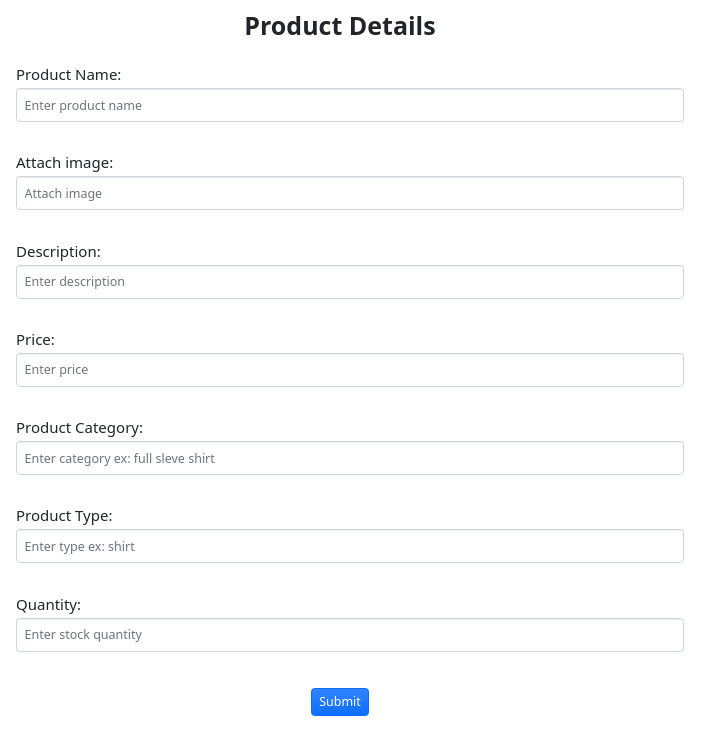
Test case: Add Product › description verification
Type "Nice one!" into the field with test id "description" at [350, 282], box [16, 264, 684, 298]
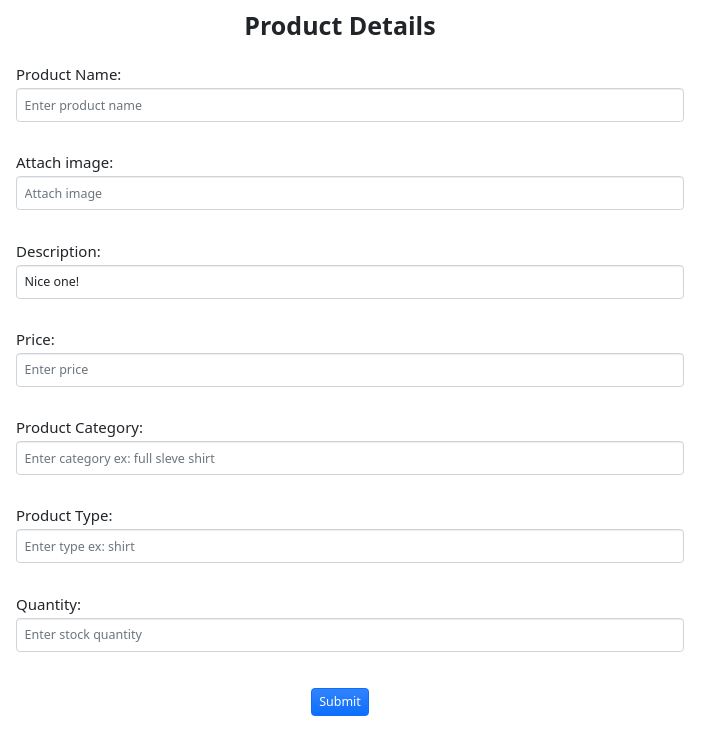
Leave the field with test id "description", box [16, 264, 684, 298]
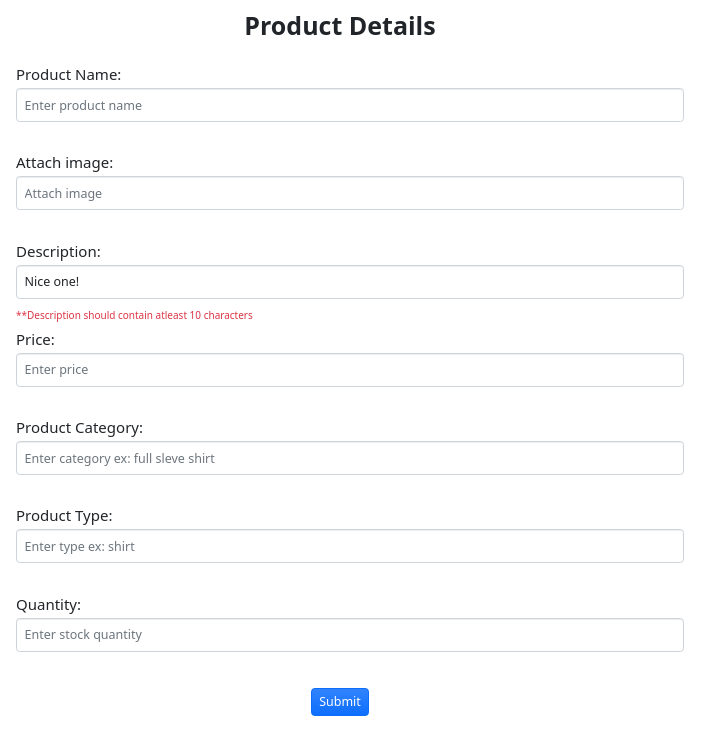
Expected: the text "**Description should contain atleast 10 characters" is shown, [16, 308, 253, 322]
